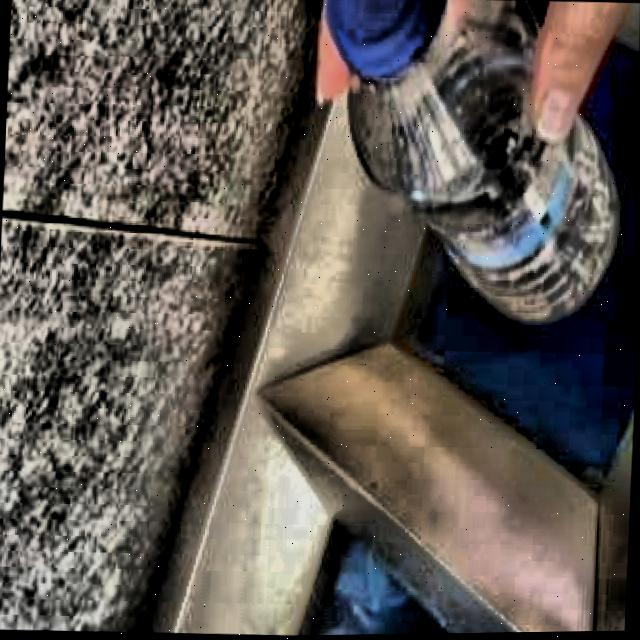plastic: (323, 0, 619, 322)
